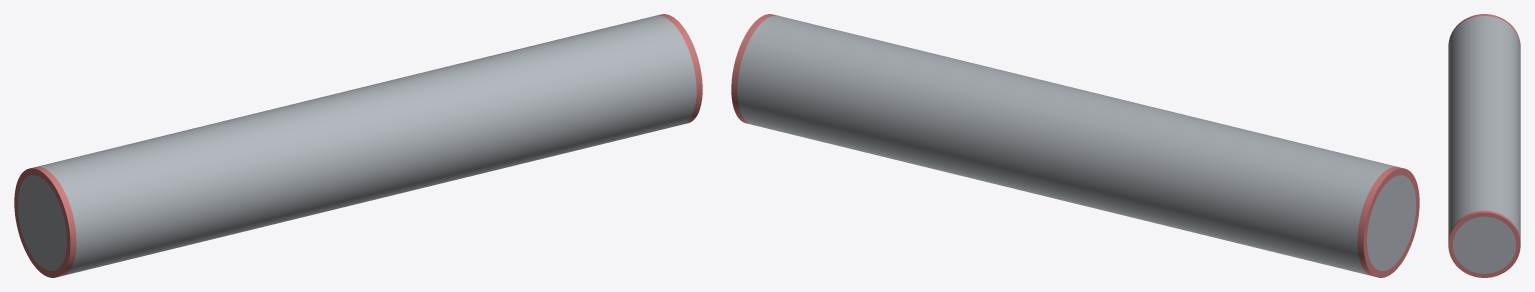
Rendered from step_12.glb.
The picture shows the model from 3 angles, left to right: view 1: azimuth 30°, elevation 25°; view 2: azimuth 150°, elevation 25°; view 3: azimuth 270°, elevation 25°; orthographic projection. The views are drawn at different scales.
Visible parts, largest first — view 1: part__spindle, removed__spindle; view 2: part__spindle, removed__spindle; view 3: part__spindle, removed__spindle.
Boxes of the visible parts, x1,y1,x2,y2 form: part__spindle: (18, 15, 696, 275); removed__spindle: (14, 14, 702, 277); part__spindle: (737, 15, 1415, 275); removed__spindle: (731, 14, 1419, 277); part__spindle: (1448, 16, 1520, 273); removed__spindle: (1448, 14, 1520, 277).
Bounding box in the file's own units: 104 × 15.99 × 16.
